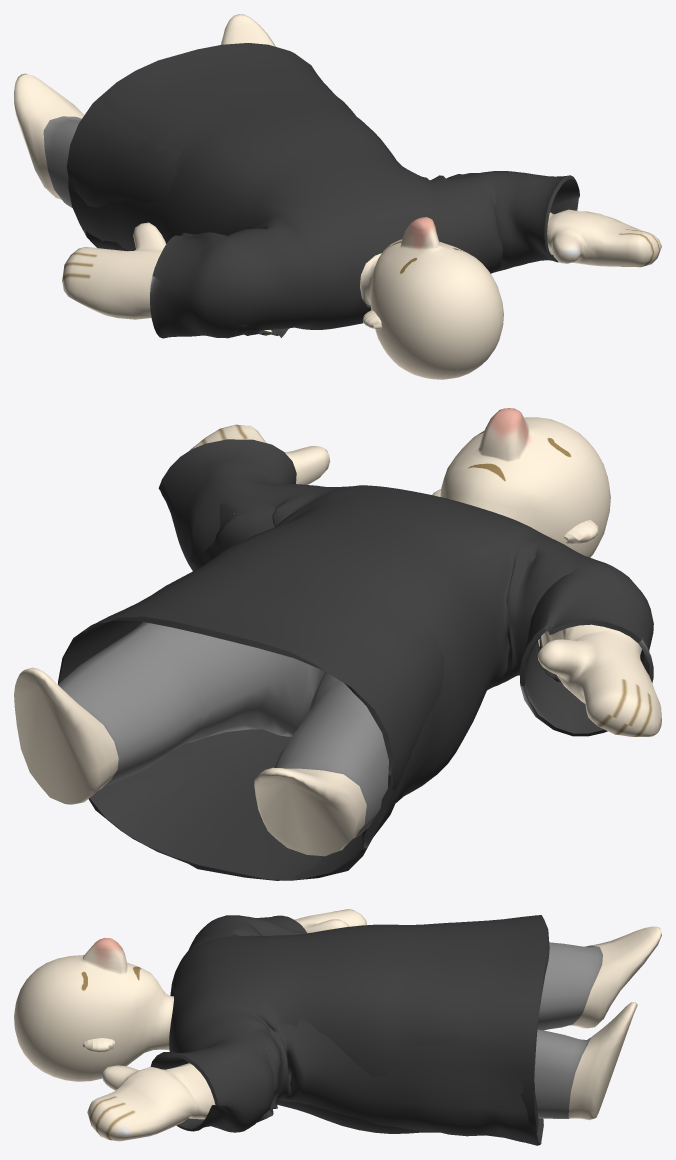
The model's file is pesron_laying1_v1.fbx.
3 renders of one model, top to bottom at view 1: azimuth 30°, elevation 25°; view 2: azimuth 150°, elevation 25°; view 3: azimuth 270°, elevation 25°, orthographic. The views are drawn at different scales.
Parts seen in each view (by area): view 1: person_laying_1; view 2: person_laying_1; view 3: person_laying_1.
Part boxes in pixels (x1,y1,x2,y2): person_laying_1: (14,14,661,379); person_laying_1: (14,408,661,880); person_laying_1: (14,909,661,1145).
Bounding box in the file's own units: 1.75 × 0.676 × 2.16.
Materials: 1 (1 with a texture image).
